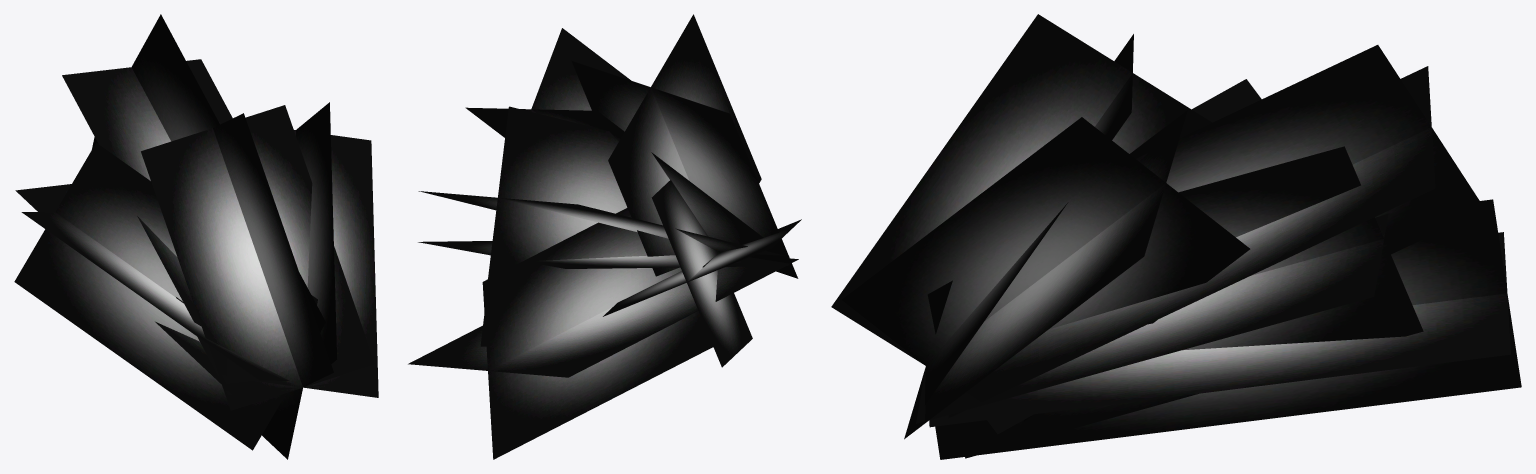
File: vfx_kurp_1117.dae
The picture shows the model from 3 angles, left to right: view 1: azimuth 30°, elevation 25°; view 2: azimuth 150°, elevation 25°; view 3: azimuth 270°, elevation 25°; orthographic projection. The views are drawn at different scales.
Visible parts, largest first — view 1: vfx_kurp_1117; view 2: vfx_kurp_1117; view 3: vfx_kurp_1117.
Boxes of the visible parts, box(x1,y1,x2,y2) form: vfx_kurp_1117: box(14, 14, 378, 459); vfx_kurp_1117: box(408, 14, 801, 459); vfx_kurp_1117: box(831, 14, 1521, 459).
Bounding box in the file's own units: 11.02 × 15.43 × 10.86.
1 material, 1 textured.
